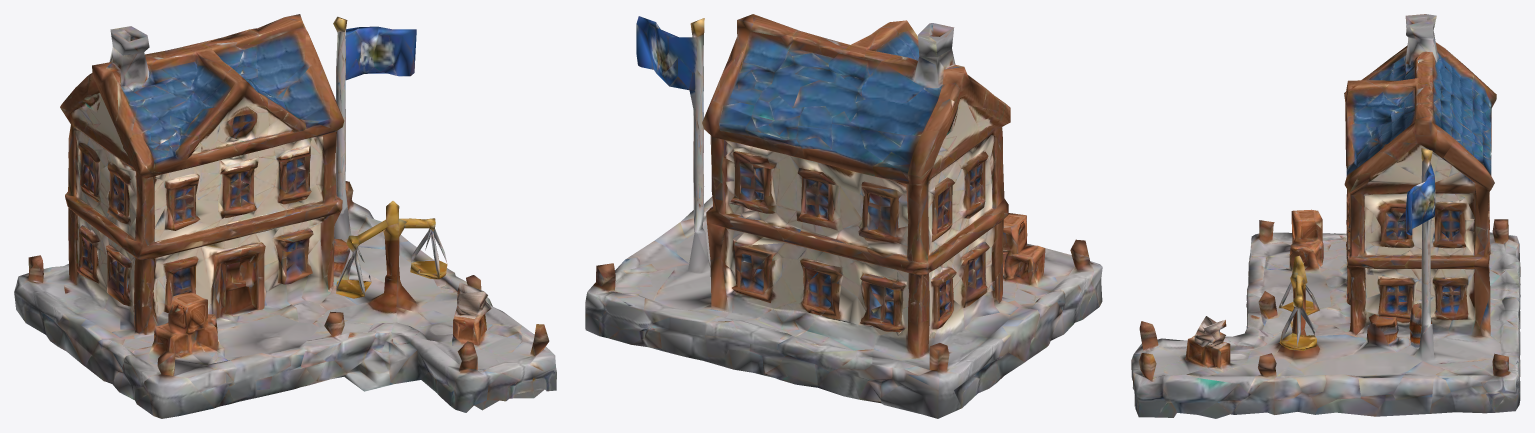
The model's file is m_customs.glb.
The picture shows the model from 3 angles, left to right: view 1: azimuth 30°, elevation 25°; view 2: azimuth 150°, elevation 25°; view 3: azimuth 270°, elevation 25°; orthographic projection. The views are drawn at different scales.
Bounding box in the file's own units: 0.8233 × 0.7033 × 0.8887.
1 material, 1 textured.
